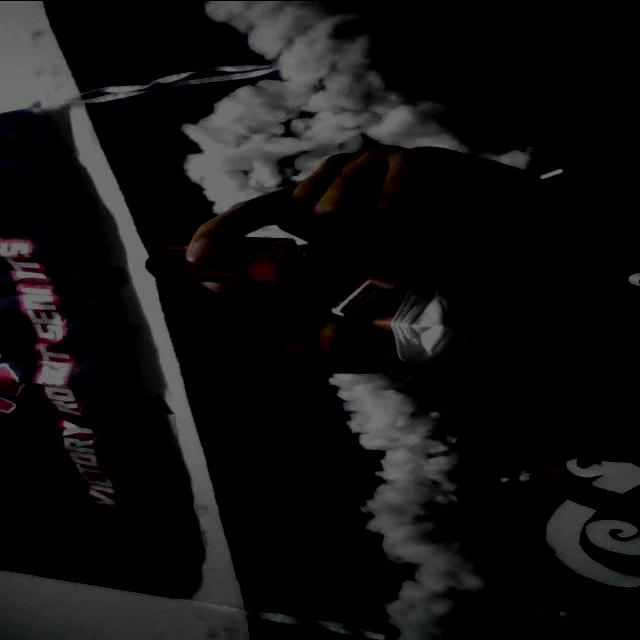9V: (140, 230, 306, 284)
